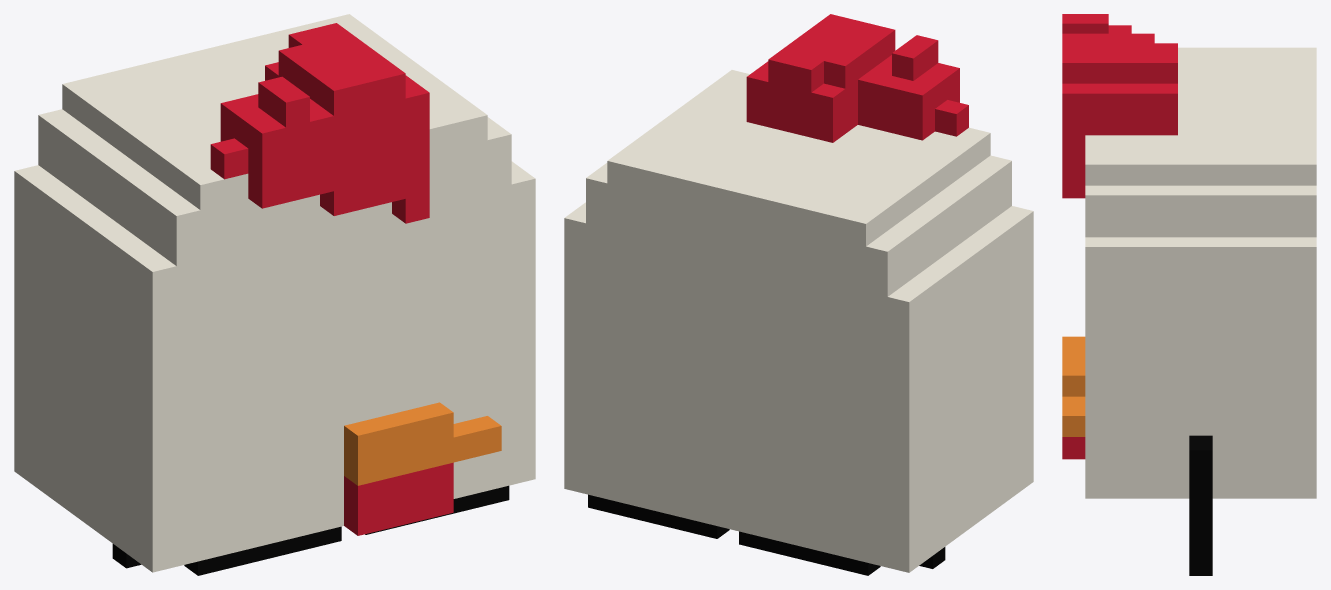
Rendered from chicken.glb.
3 views of the same model, side by side, from view 1: azimuth 30°, elevation 25°; view 2: azimuth 150°, elevation 25°; view 3: azimuth 270°, elevation 25° (orthographic). The views are drawn at different scales.
Parts seen in each view (by area): view 1: base, red, glasses; view 2: base, red, glasses; view 3: base, red, glasses.
Boxes of the visible parts, x1=… form: base: x1=14, y1=14, x2=535, y2=572; red: x1=221, y1=24, x2=453, y2=535; glasses: x1=112, y1=485, x2=509, y2=575; base: x1=564, y1=23, x2=1033, y2=572; red: x1=748, y1=14, x2=959, y2=102; glasses: x1=588, y1=494, x2=945, y2=575; base: x1=1062, y1=14, x2=1316, y2=498; red: x1=1062, y1=14, x2=1177, y2=459; glasses: x1=1189, y1=435, x2=1212, y2=575.
Size of the model in its own units: 17.5 by 21 by 11.
8 materials, 8 textured.
